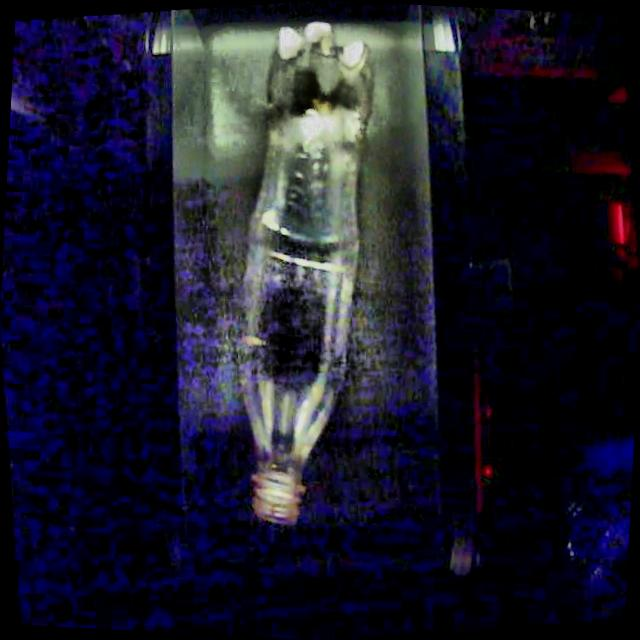plastic bottle: (243, 21, 368, 525)
